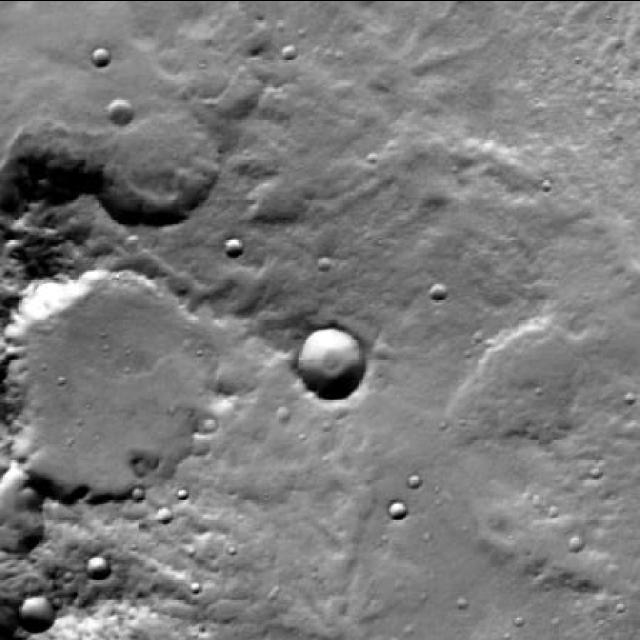crater: (0, 264, 209, 490), (82, 88, 216, 224), (300, 327, 368, 396), (19, 593, 55, 629), (109, 100, 133, 126), (86, 558, 108, 580), (90, 46, 110, 66), (390, 498, 408, 518), (434, 283, 449, 299)
